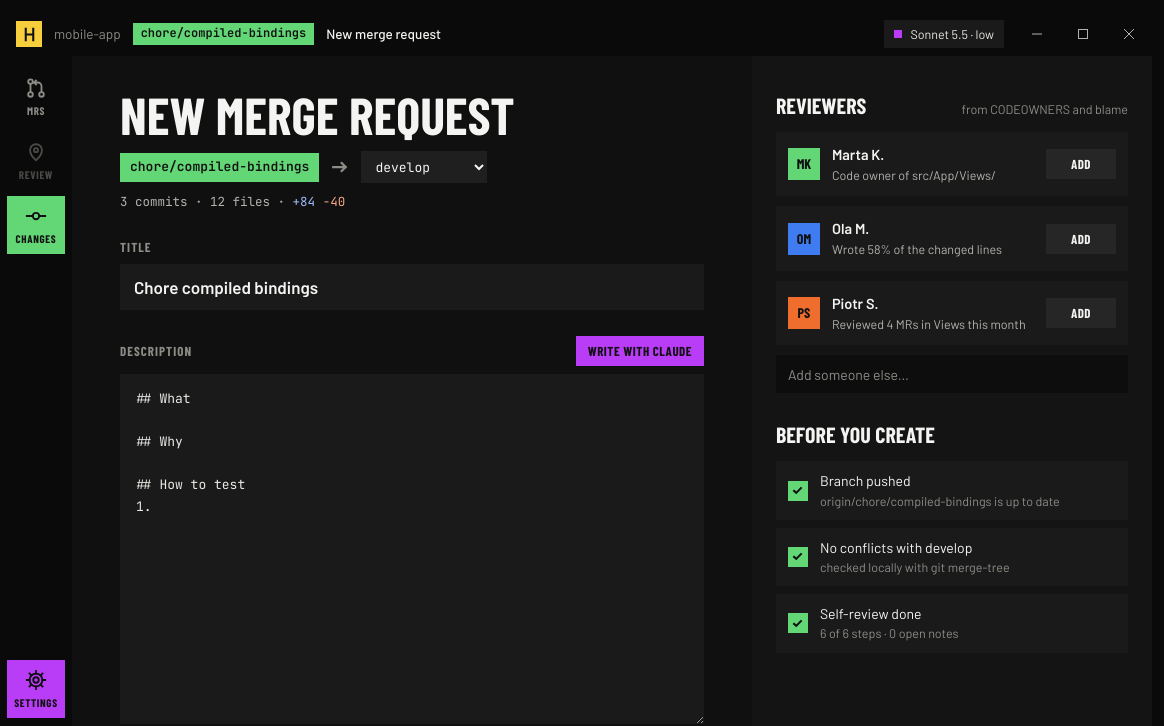
S-11 reviewers (F-27.3) › F-27.3 Add toggles to Added and back, one person at a time
Expected: the text "Marta K." is shown, [832,145,884,163]
Click the button with aria-label "Add Marta K.".
click(1081, 164)  # box [1046,149,1116,179]
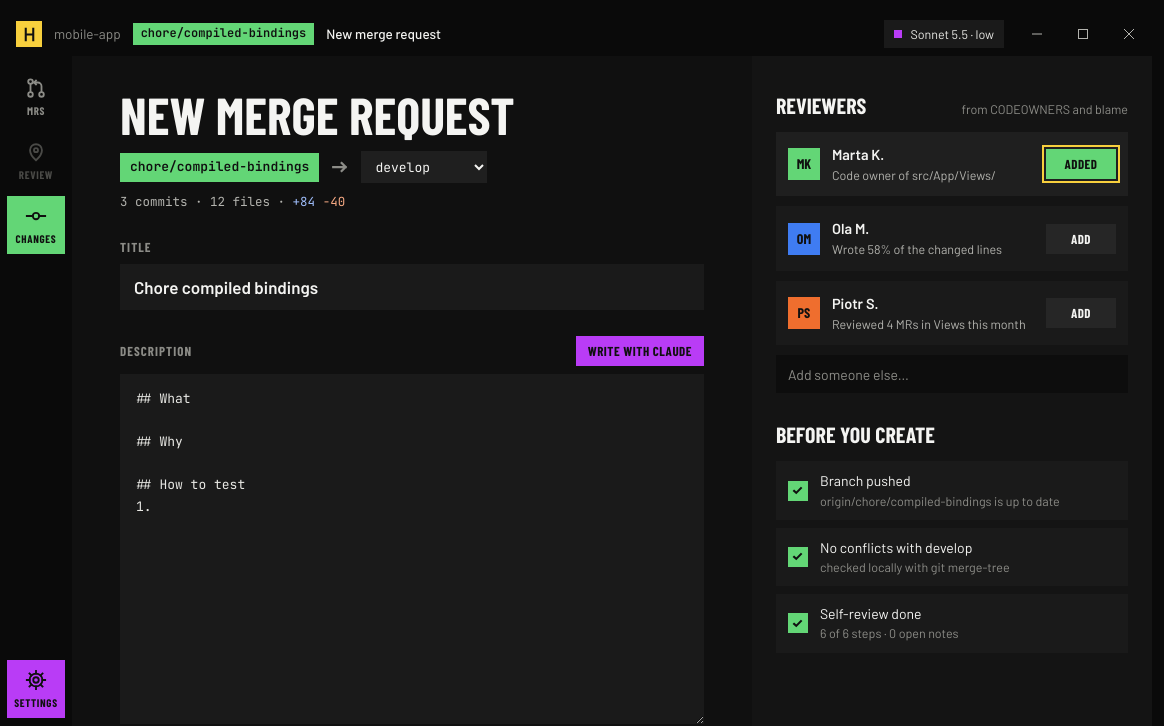
Expected: the button with aria-label "Remove Marta K." reads "Added", [1046,149,1116,179]
Click the button with aria-label "Add Piotr S.".
click(1081, 313)  # box [1046,298,1116,328]
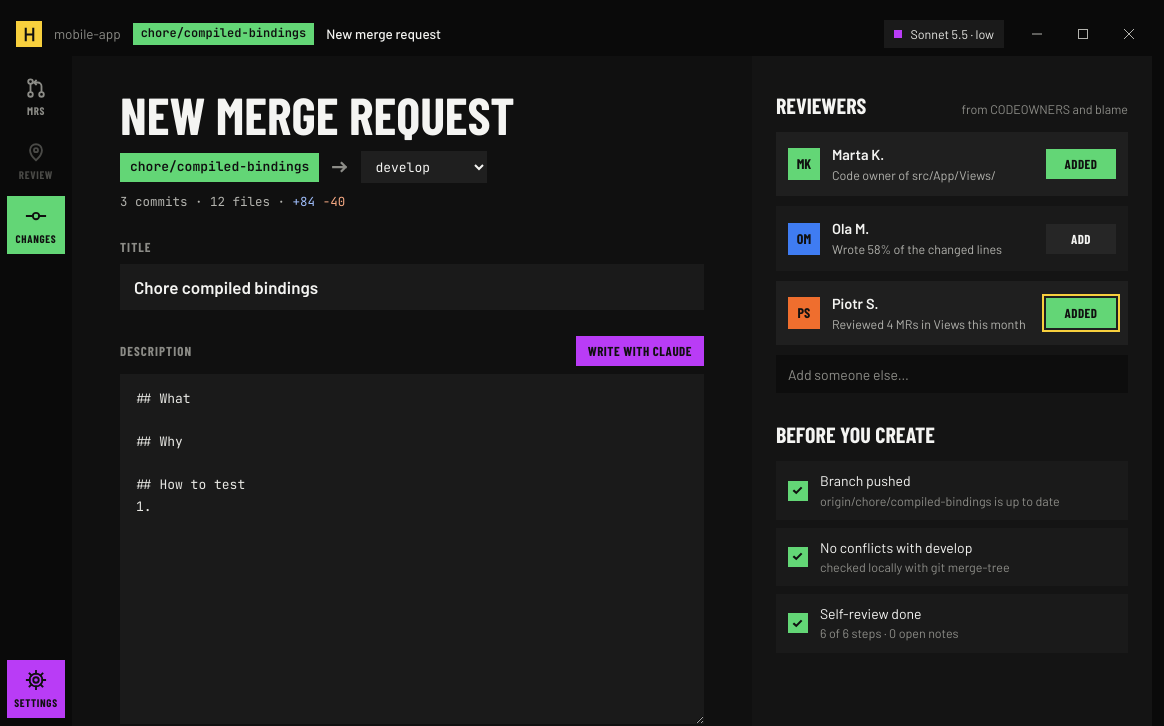
Click the button "Added" in the row of "MK".
click(1081, 164)  # box [1046,149,1116,179]
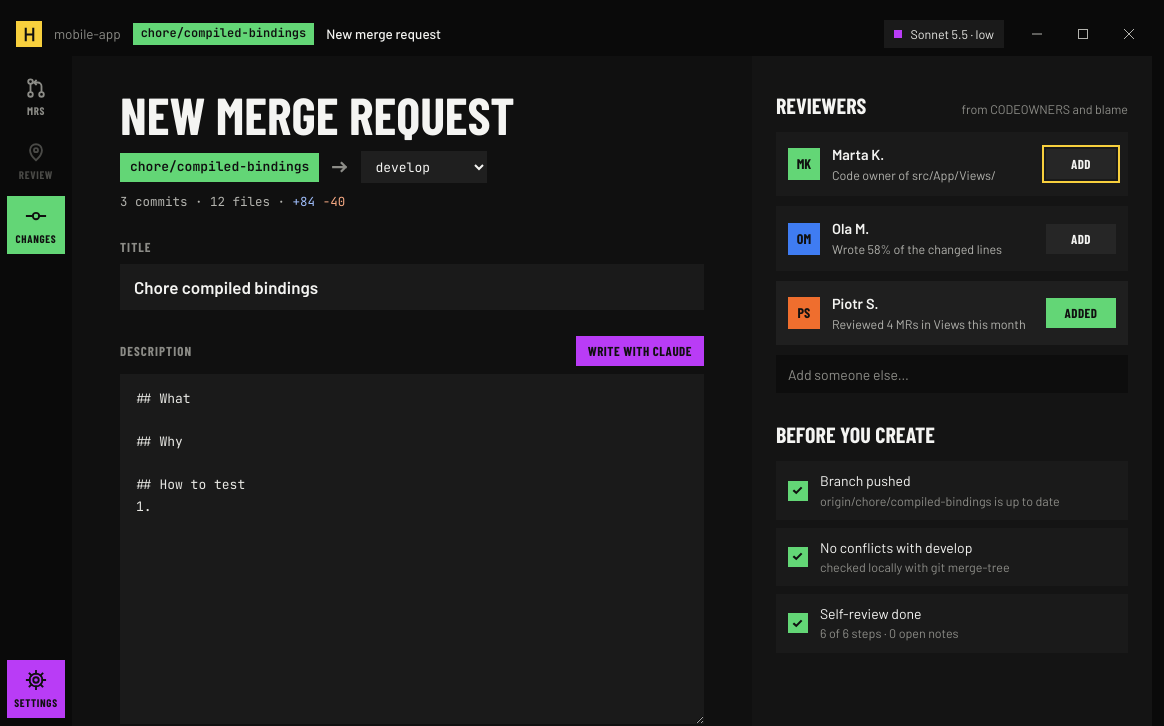
Expected: the number of buttons "Added" is 1, [1046,298,1116,328]
Expected: the button with aria-label "Add Marta K." reads "Add", [1046,149,1116,179]
